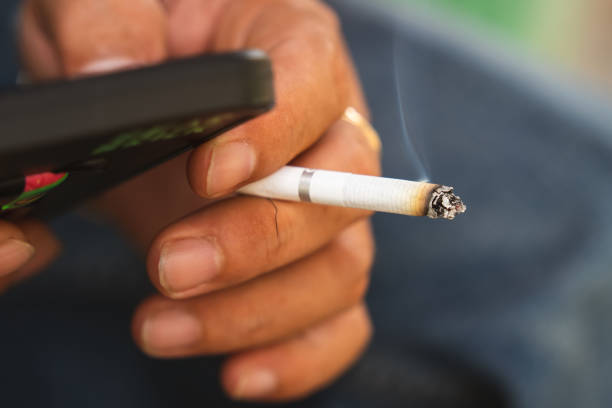cigarette: (234, 165, 467, 222)
